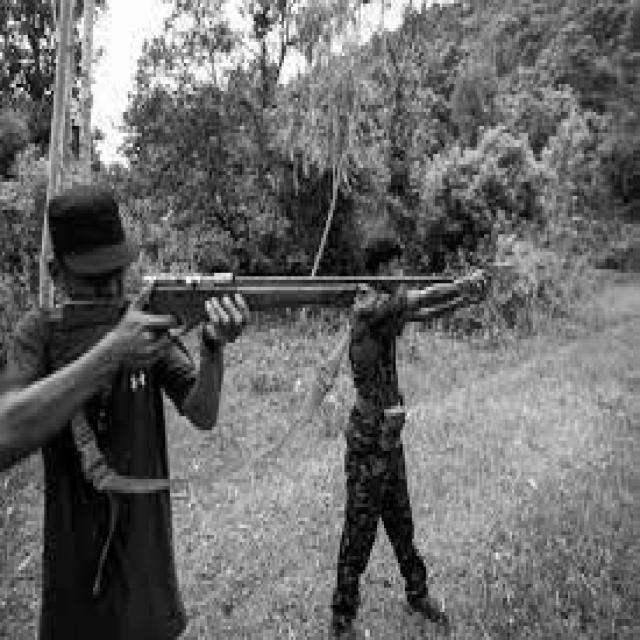gun: (46, 280, 450, 374), (477, 261, 516, 300)
